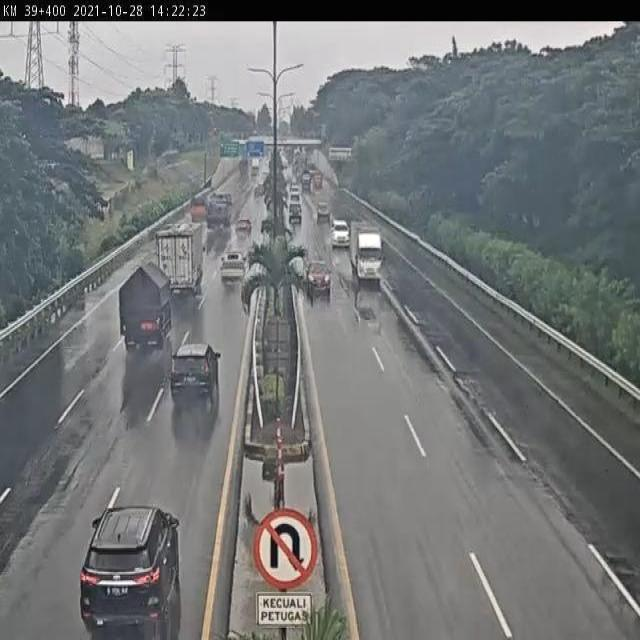Car: (78, 507, 180, 640), (172, 344, 222, 404), (304, 260, 333, 298), (330, 220, 352, 250), (235, 218, 252, 238)
Truck: (118, 259, 174, 351), (155, 221, 206, 298), (349, 219, 386, 285), (207, 192, 234, 228), (220, 252, 247, 287), (191, 193, 210, 223), (238, 159, 248, 176), (250, 157, 260, 170)
